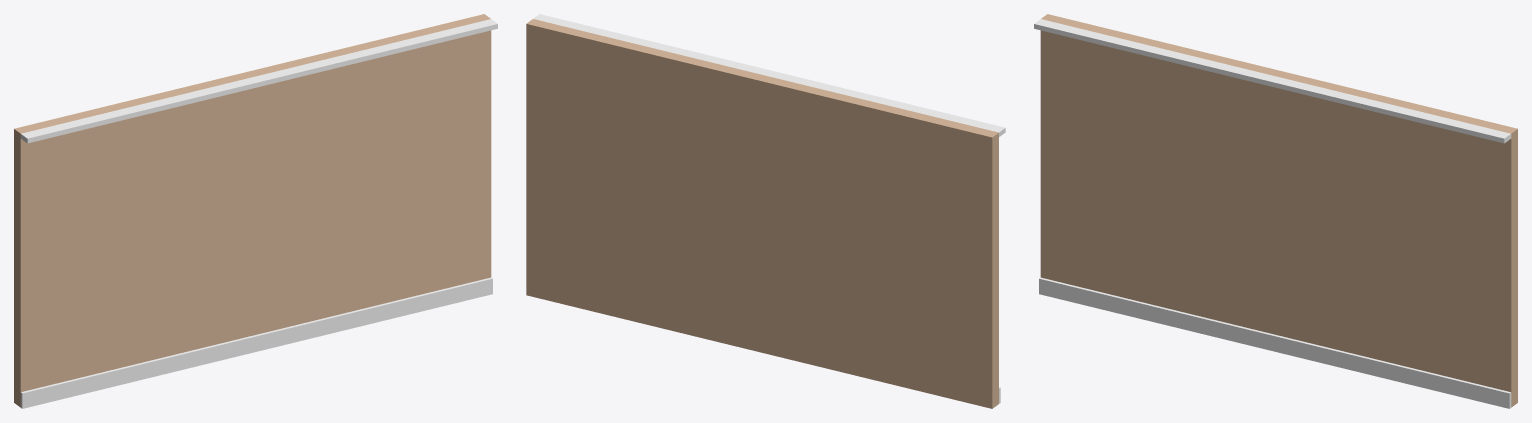
File: Wall 3.FBX
3 views of the same model, side by side, from view 1: azimuth 30°, elevation 25°; view 2: azimuth 150°, elevation 25°; view 3: azimuth 330°, elevation 25° (orthographic).
Parts seen in each view (by area): view 1: wall 3; view 2: wall 3; view 3: wall 3.
Part boxes in pixels (left/top/right/bottom): wall 3: left=14, top=14, right=497, bottom=408; wall 3: left=526, top=14, right=1005, bottom=408; wall 3: left=1034, top=14, right=1517, bottom=408.
Bounding box in the file's own units: 221 × 11.03 × 123.
